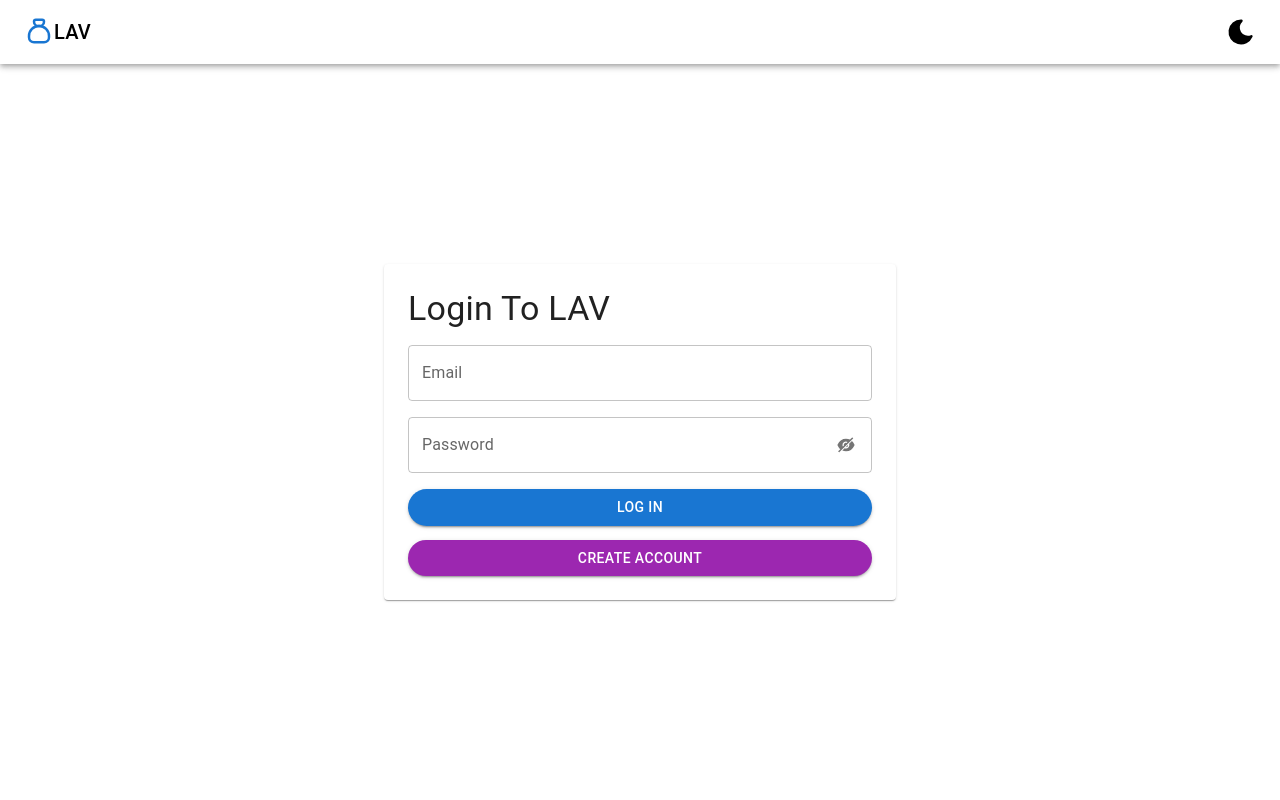
Login Page › Errors will show when inputting incorrect info into email field
Type "email@email" into the field labelled "Email" at (640, 374), box [408,346,872,402]
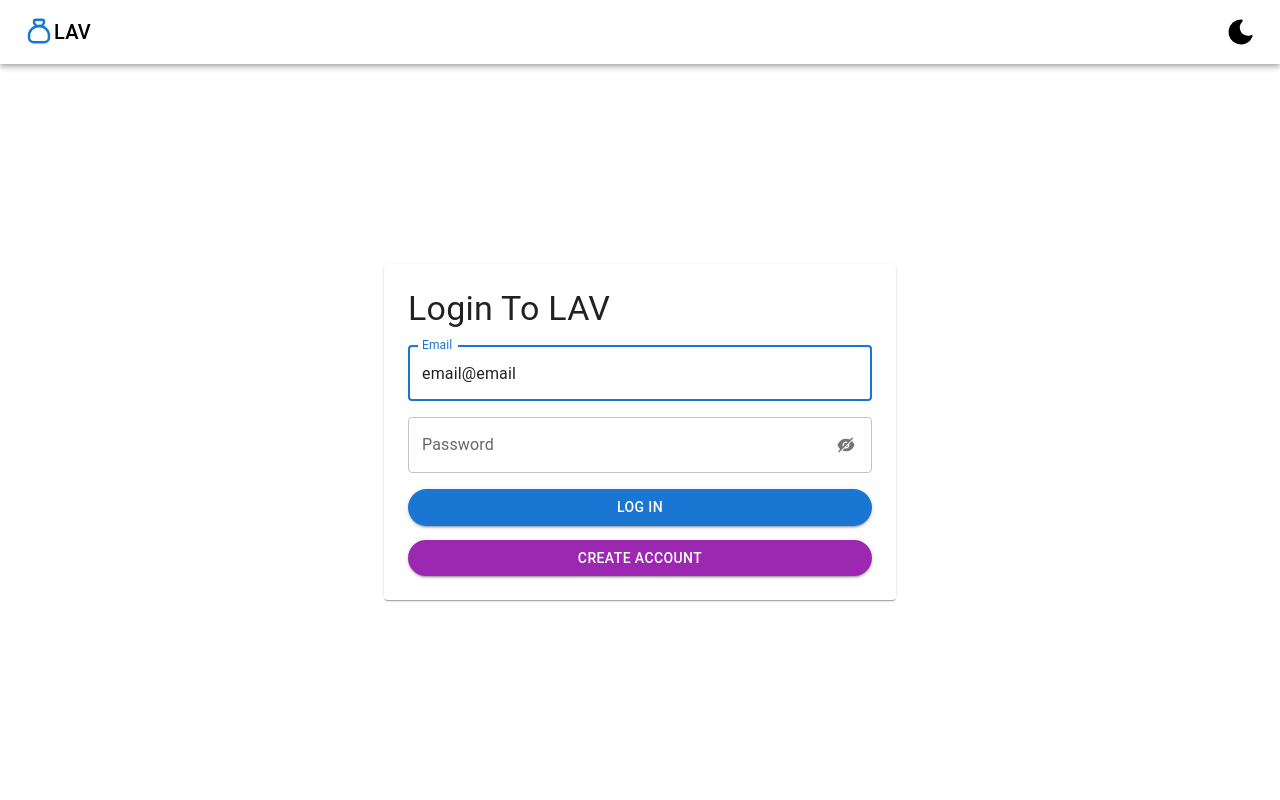
Click the button "Log In" at (640, 508), box [408,490,872,526]
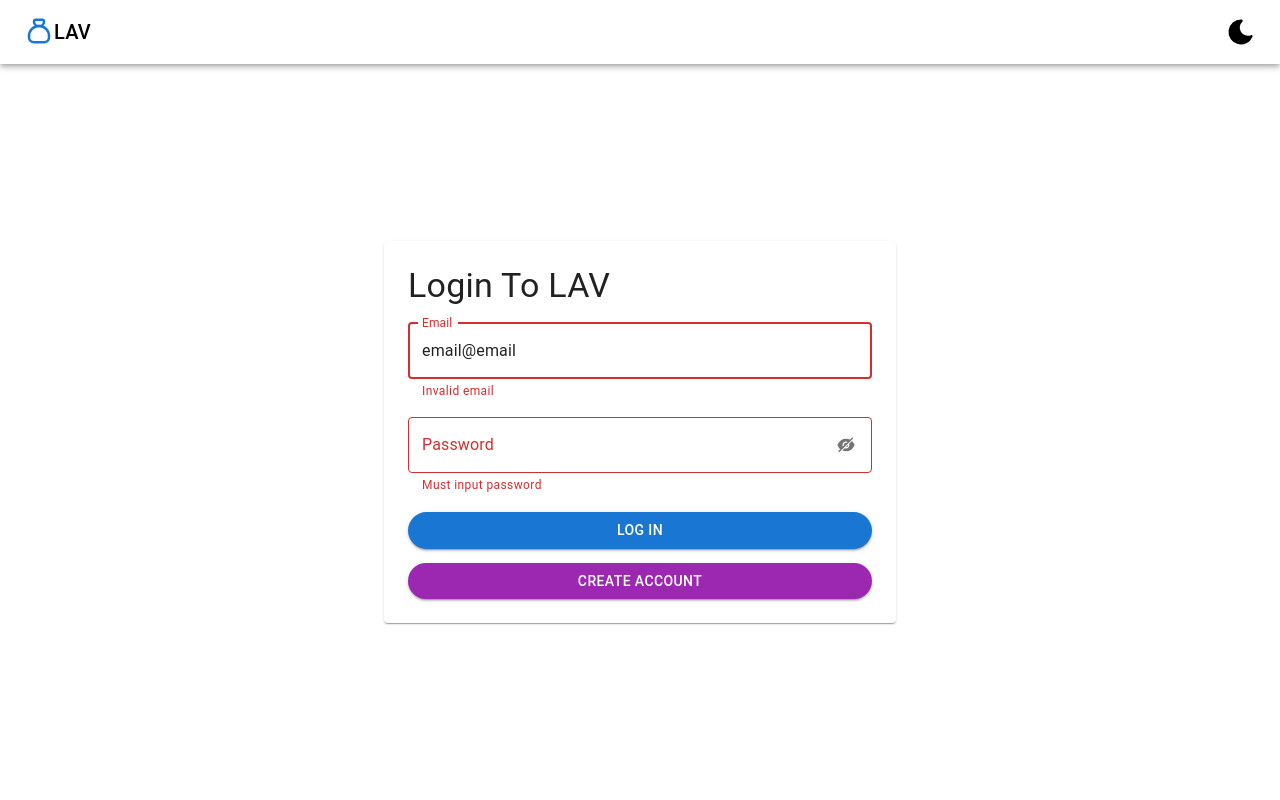
Expected: the text "Invalid email" is shown, [422,384,494,398]
